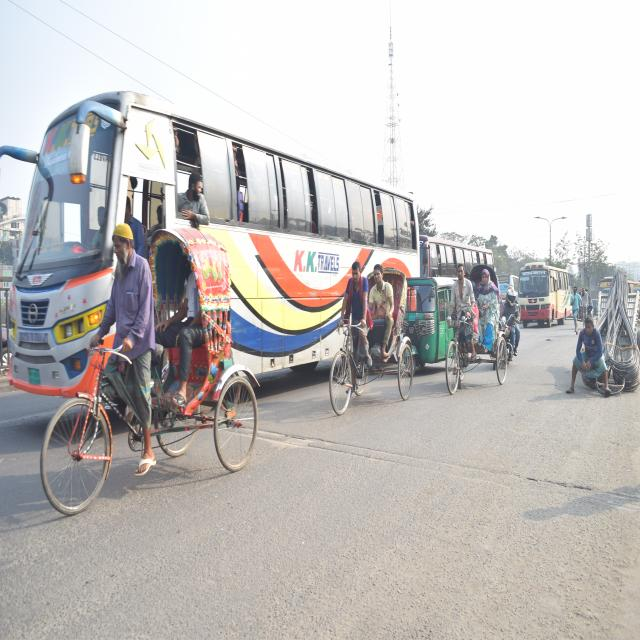bus: (10, 91, 419, 432), (424, 233, 498, 284), (521, 261, 570, 324)
